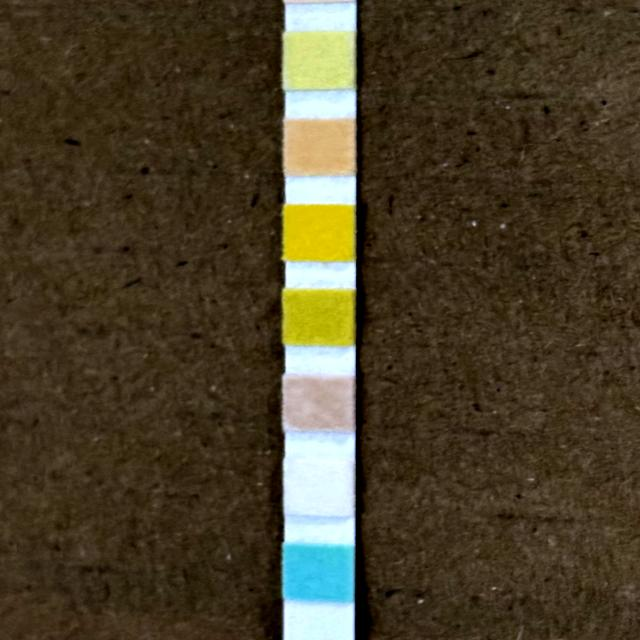Bilirubin: (286, 466, 352, 518)
Blood: (286, 208, 352, 259)
Glucose: (286, 547, 354, 600)
Ketone: (287, 379, 351, 429)
Protein: (286, 34, 354, 90)
SpGravity: (288, 293, 354, 345)
pH: (286, 121, 352, 174)
